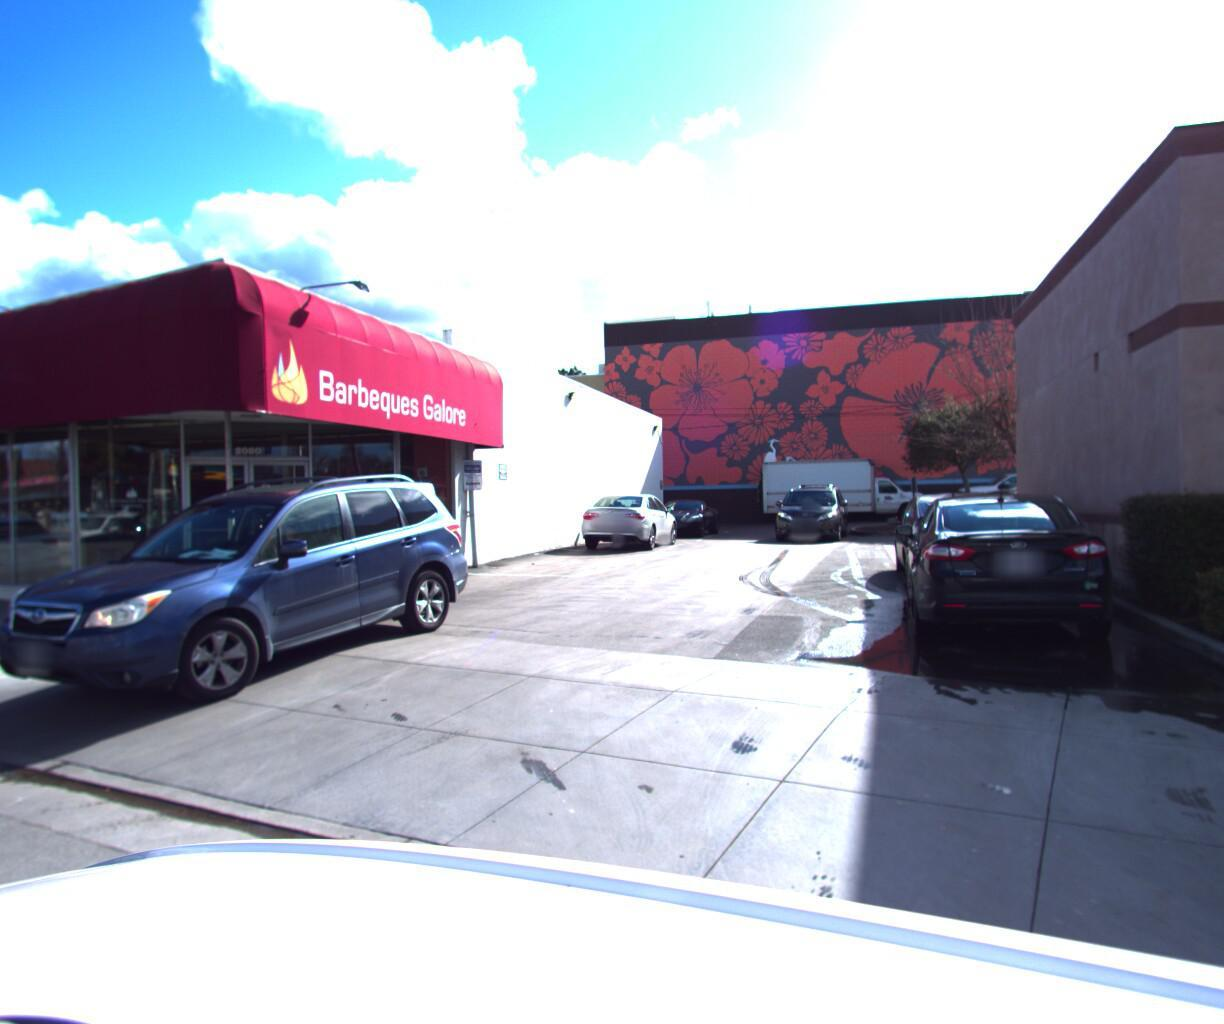car: (0, 454, 478, 730), (900, 480, 1152, 689)
